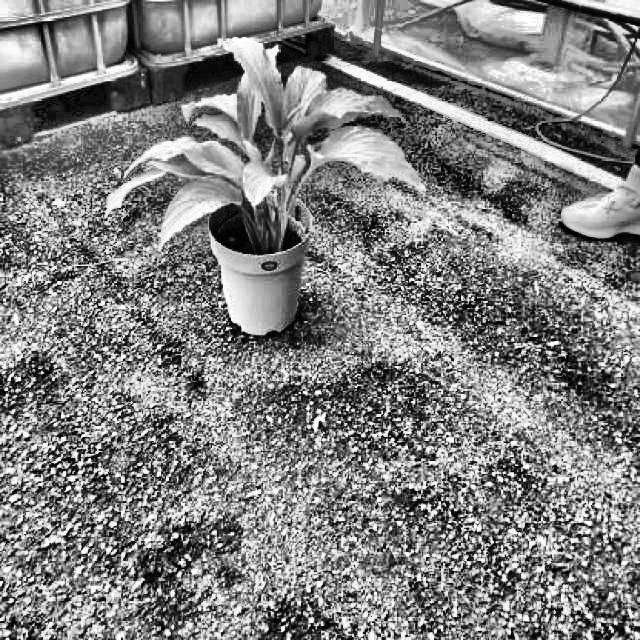plants: (107, 41, 427, 260)
